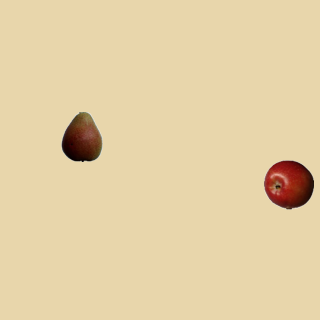Apple Braeburn: (263, 159, 313, 209)
Pear Forelle: (56, 111, 106, 161)
